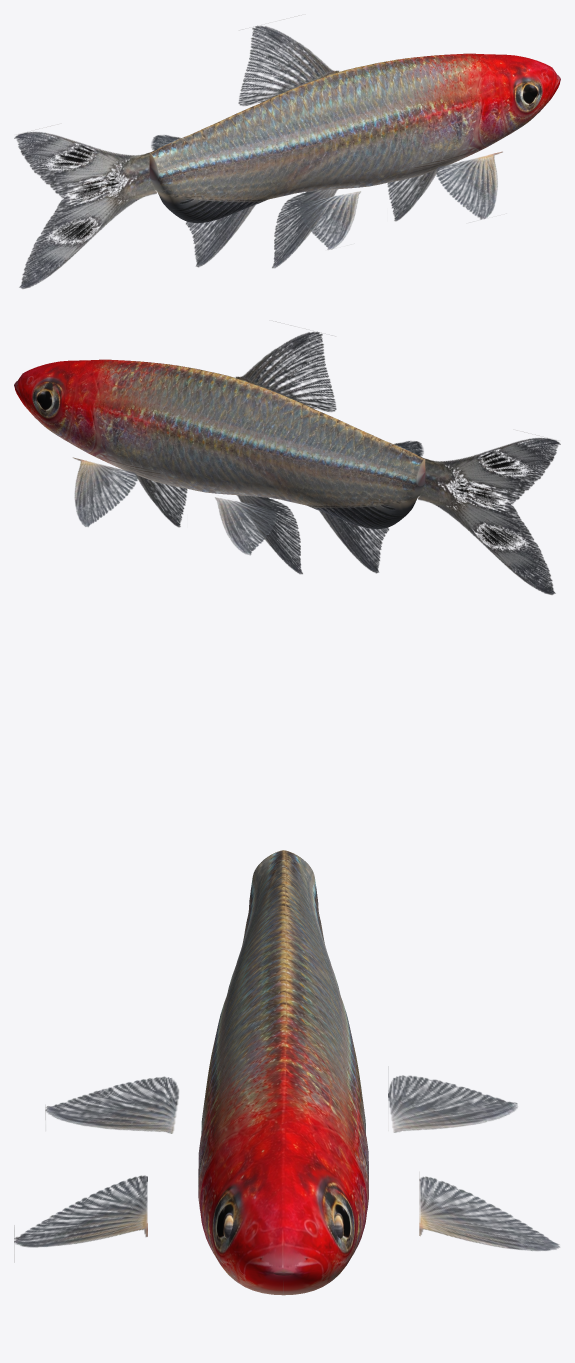
The model's file is species-rummy.glb.
The picture shows the model from 3 angles, top to bottom: view 1: azimuth 30°, elevation 25°; view 2: azimuth 150°, elevation 25°; view 3: azimuth 270°, elevation 25°; orthographic projection. The views are drawn at different scales.
Visible parts, largest first — view 1: rummynose; view 2: rummynose; view 3: rummynose.
Part boxes in pixels (x1,y1,x2,y2): rummynose: (14,25,560,288); rummynose: (14,331,560,594); rummynose: (14,850,559,1295).
Size of the model in its own units: 0.0451 by 0.0195 by 0.0207.
Materials: 1 (1 with a texture image).
